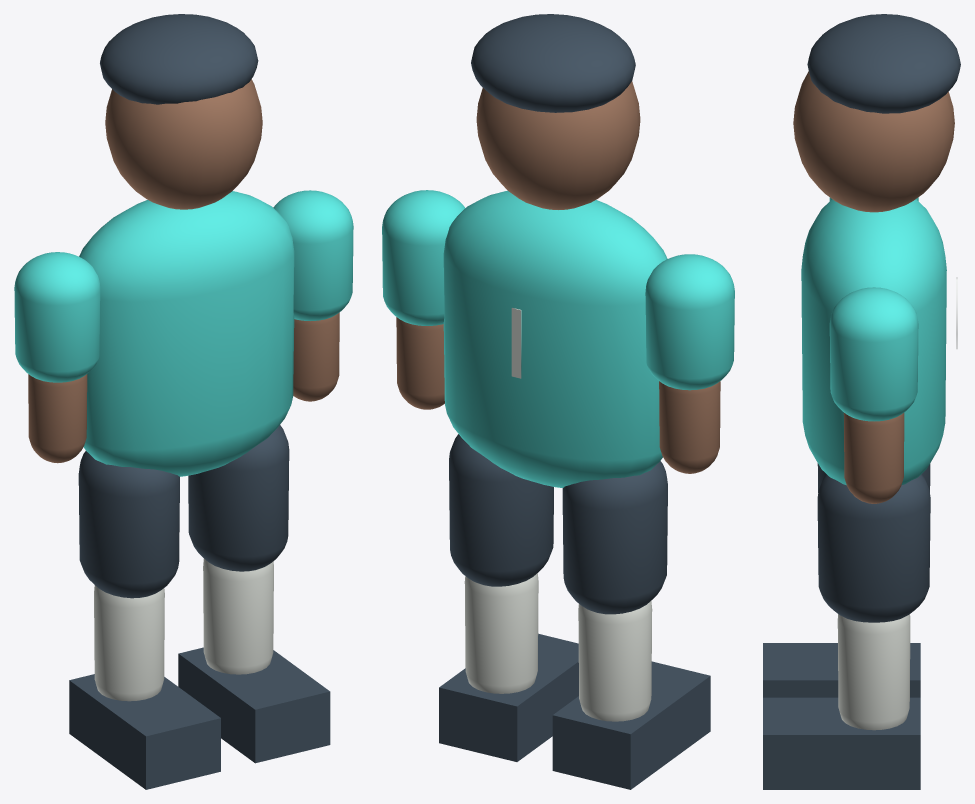
The model's file is Player_Turquoise.fbx.
3 views of the same model, side by side, from view 1: azimuth 30°, elevation 25°; view 2: azimuth 150°, elevation 25°; view 3: azimuth 270°, elevation 25° (orthographic). The views are drawn at different scales.
Visible parts, largest first — view 1: Jersey, Head, Shorts_Left, Boot_Left, Hair, Boot_Right, Shorts_Right, Sleeve_Left, Sleeve_Right, Sock_Right, Sock_Left, Forearm_Left (+1 smaller); view 2: Jersey, Head, Shorts_Left, Hair, Shorts_Right, Boot_Left, Sleeve_Left, Boot_Right, Sleeve_Right, Sock_Left, Sock_Right, Forearm_Left (+2 smaller); view 3: Jersey, Head, Shorts_Right, Boot_Right, Hair, Sleeve_Right, Sock_Right, Forearm_Right, Boot_Left.
Part boxes in pixels (x1=…): Jersey: x1=79, y1=191, x2=294, y2=476; Head: x1=105, y1=79, x2=262, y2=209; Shorts_Left: x1=78, y1=451, x2=179, y2=598; Boot_Left: x1=69, y1=674, x2=220, y2=789; Hair: x1=100, y1=14, x2=258, y2=104; Boot_Right: x1=178, y1=647, x2=330, y2=763; Shorts_Right: x1=188, y1=425, x2=289, y2=571; Sleeve_Left: x1=14, y1=252, x2=100, y2=382; Sleeve_Right: x1=273, y1=190, x2=353, y2=320; Sock_Right: x1=203, y1=558, x2=273, y2=674; Sock_Left: x1=94, y1=585, x2=164, y2=701; Forearm_Left: x1=28, y1=374, x2=87, y2=463; Jersey: x1=443, y1=190, x2=667, y2=487; Head: x1=476, y1=81, x2=640, y2=209; Shorts_Left: x1=562, y1=461, x2=667, y2=614; Hair: x1=471, y1=14, x2=635, y2=112; Shorts_Right: x1=449, y1=434, x2=553, y2=586; Boot_Left: x1=552, y1=661, x2=710, y2=789; Sleeve_Left: x1=645, y1=254, x2=734, y2=390; Boot_Right: x1=439, y1=633, x2=578, y2=761; Sleeve_Right: x1=382, y1=190, x2=465, y2=325; Sock_Left: x1=578, y1=601, x2=652, y2=721; Sock_Right: x1=464, y1=573, x2=538, y2=693; Forearm_Left: x1=659, y1=381, x2=720, y2=473; Jersey: x1=801, y1=199, x2=946, y2=485; Head: x1=793, y1=71, x2=954, y2=212; Shorts_Right: x1=817, y1=474, x2=930, y2=622; Boot_Right: x1=763, y1=697, x2=920, y2=789; Hair: x1=807, y1=14, x2=960, y2=113; Sleeve_Right: x1=829, y1=287, x2=918, y2=421; Sock_Right: x1=837, y1=614, x2=910, y2=730; Forearm_Right: x1=843, y1=413, x2=904, y2=503; Boot_Left: x1=763, y1=643, x2=920, y2=697.
Bounding box in the file's own units: 96 × 195 × 49.
